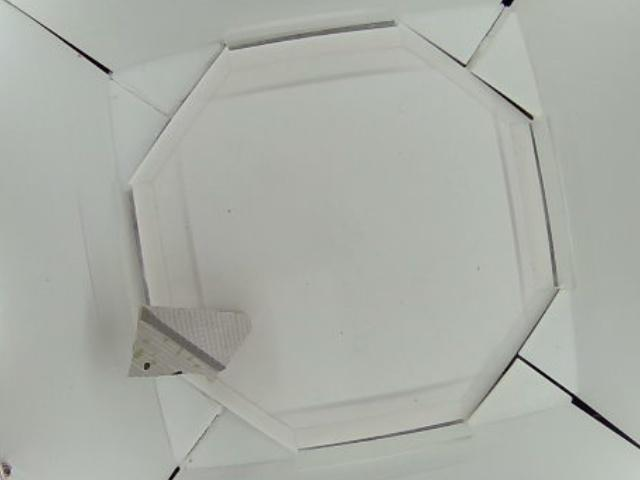China: (126, 297, 253, 381)
